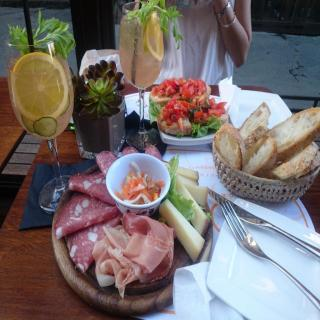Lemon: (9, 53, 68, 119), (145, 14, 165, 62)
Salad: (113, 162, 167, 206)
